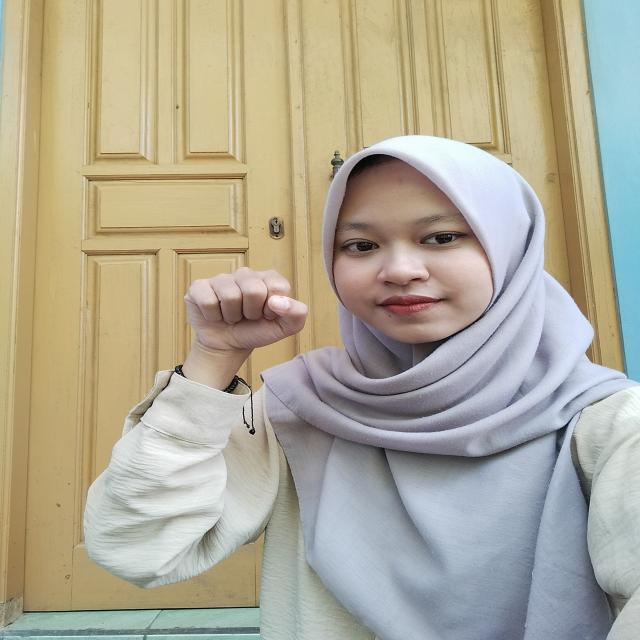baik: (115, 262, 326, 462)
